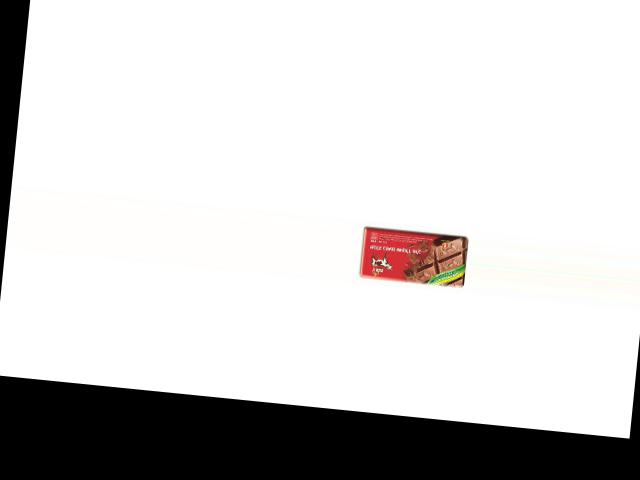chocolate: (356, 223, 469, 289)
